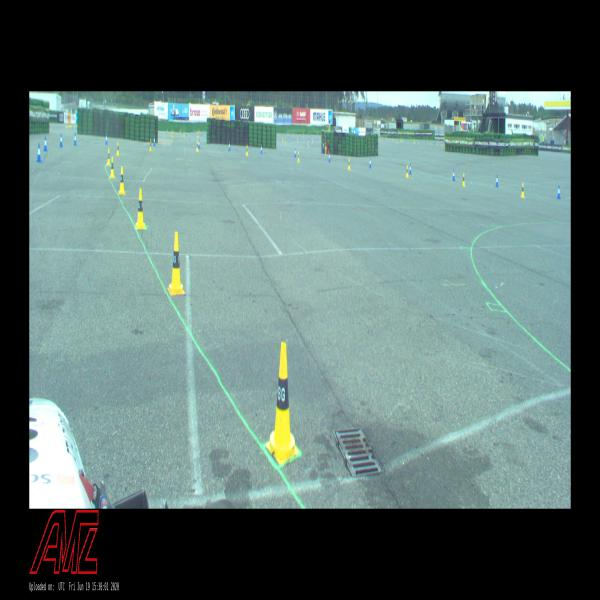blue_cone: (36, 144, 42, 162), (44, 136, 48, 151), (556, 185, 560, 199), (60, 134, 63, 146), (453, 169, 456, 181), (328, 152, 331, 163), (409, 163, 412, 174), (105, 134, 108, 144), (153, 136, 156, 146), (74, 132, 76, 146), (496, 175, 498, 187), (369, 158, 371, 168), (260, 145, 262, 154), (294, 148, 296, 157), (199, 139, 200, 149)
yellow_cone: (266, 342, 299, 464), (168, 232, 184, 295), (136, 188, 145, 229), (118, 167, 126, 194), (110, 157, 115, 178), (107, 149, 111, 165), (521, 182, 525, 198), (116, 142, 120, 156), (462, 173, 465, 186), (149, 139, 152, 151), (348, 158, 350, 170), (406, 165, 408, 177), (246, 145, 248, 156), (196, 141, 198, 151), (298, 152, 300, 162)
